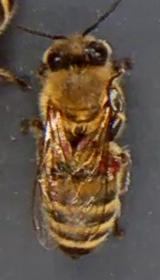varroa_mite: (98, 148, 121, 178)
